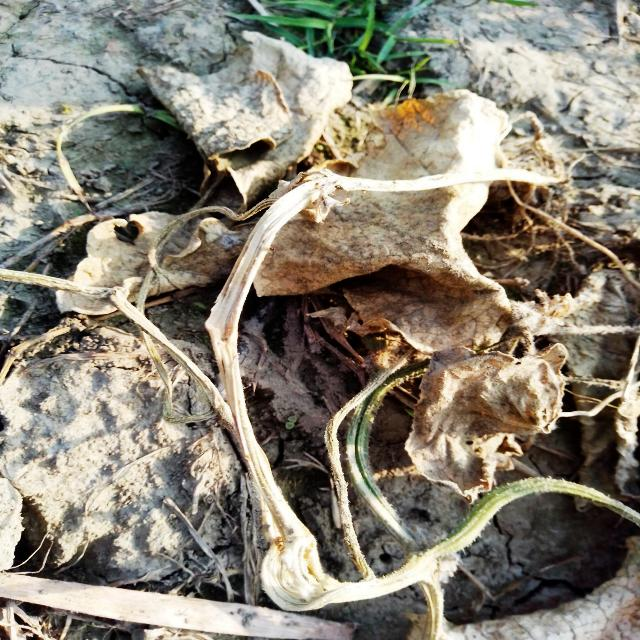Bacterial-Wilt: (229, 89, 515, 357), (405, 344, 569, 504)
